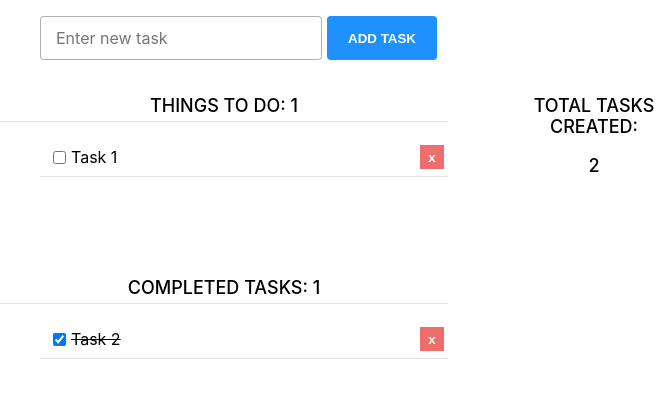
Test: TodoListPage › should create a new task
Type "New Task" into the field with placeholder "Enter new task". click: (181, 38)
box: left=40, top=16, right=322, bottom=60
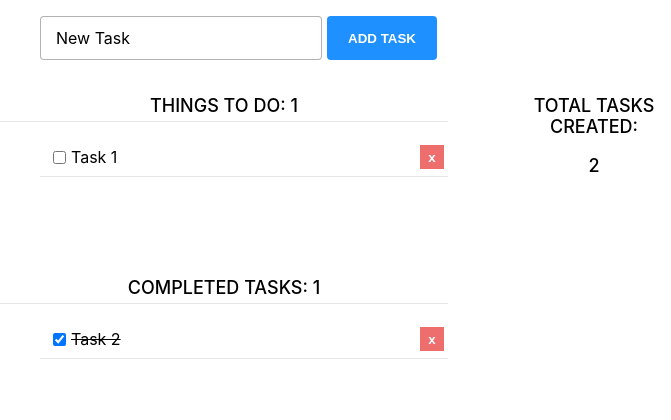
Click the button "Add task". click: (382, 38)
box: left=327, top=16, right=437, bottom=60
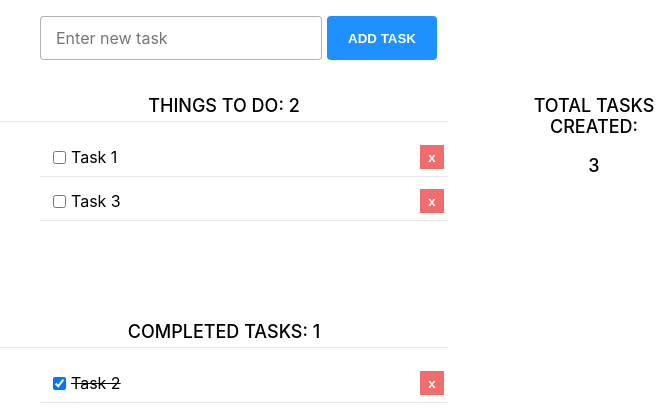
Expected: the text "Task 3" is shown, left=71, top=191, right=121, bottom=211
